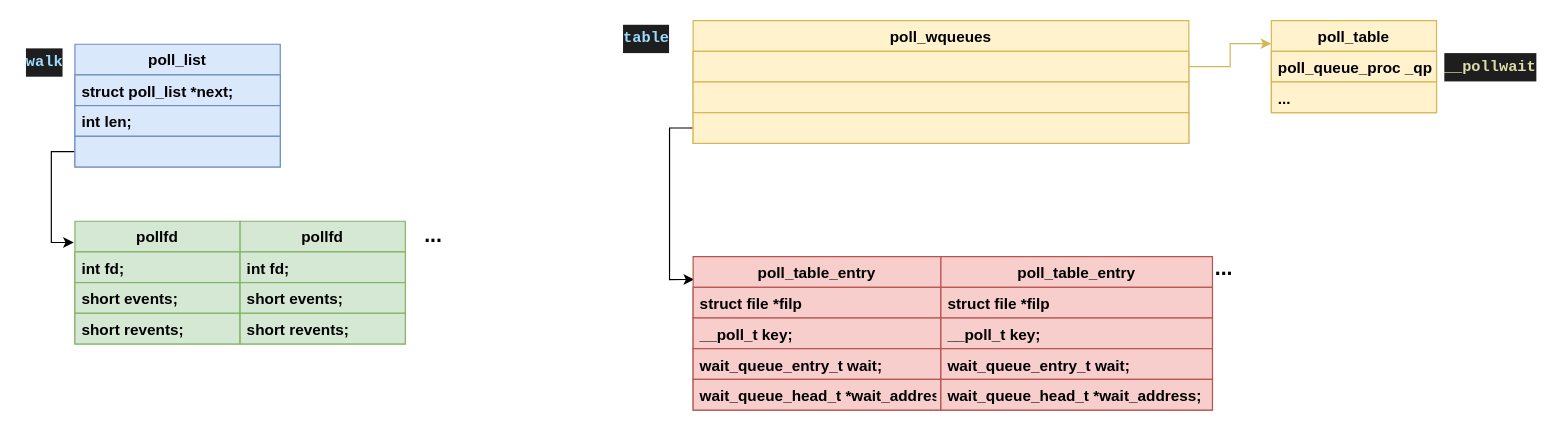
Image size: 1562x434. Some labels were removed from this diagram. The centre of each missing label's shape, as x and y in pixels:
poll_table pt: the point at 940,66
struct poll_table_entry inline_entries[N_INLINE_POLL_ENTRIES];: the point at 940,127
struct pollfd entries[0];: the point at 177,151
truct poll_table_page *table;: the point at 940,97
